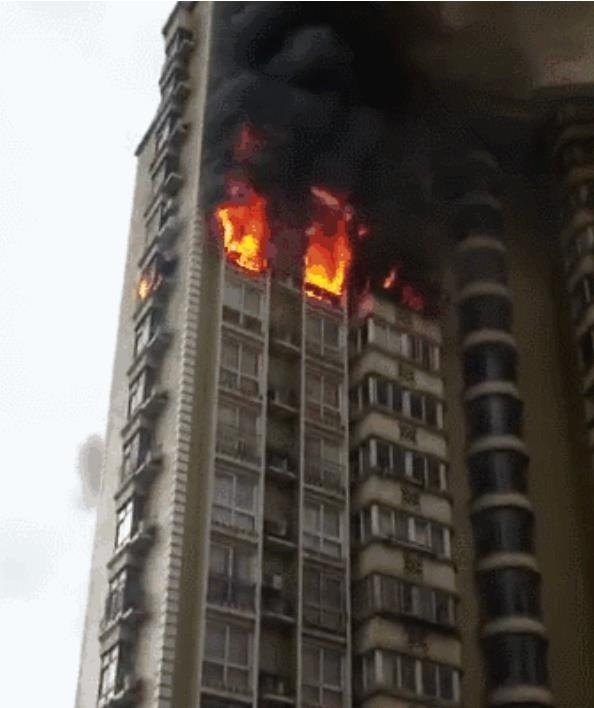fire: (297, 192, 355, 296), (214, 187, 264, 273), (132, 269, 158, 298)
